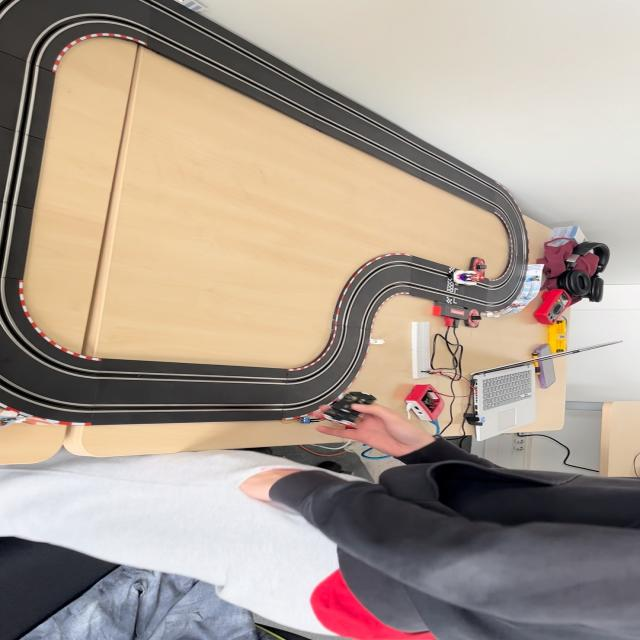mario: (450, 271, 488, 288)
